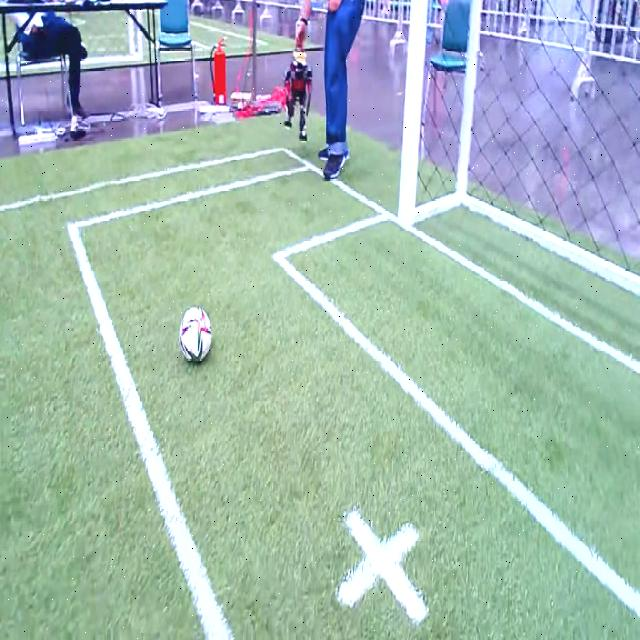ball: (179, 306, 212, 363)
